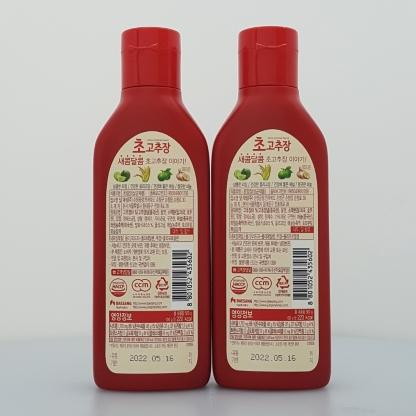---------: (92, 26, 212, 391), (211, 26, 331, 390)
